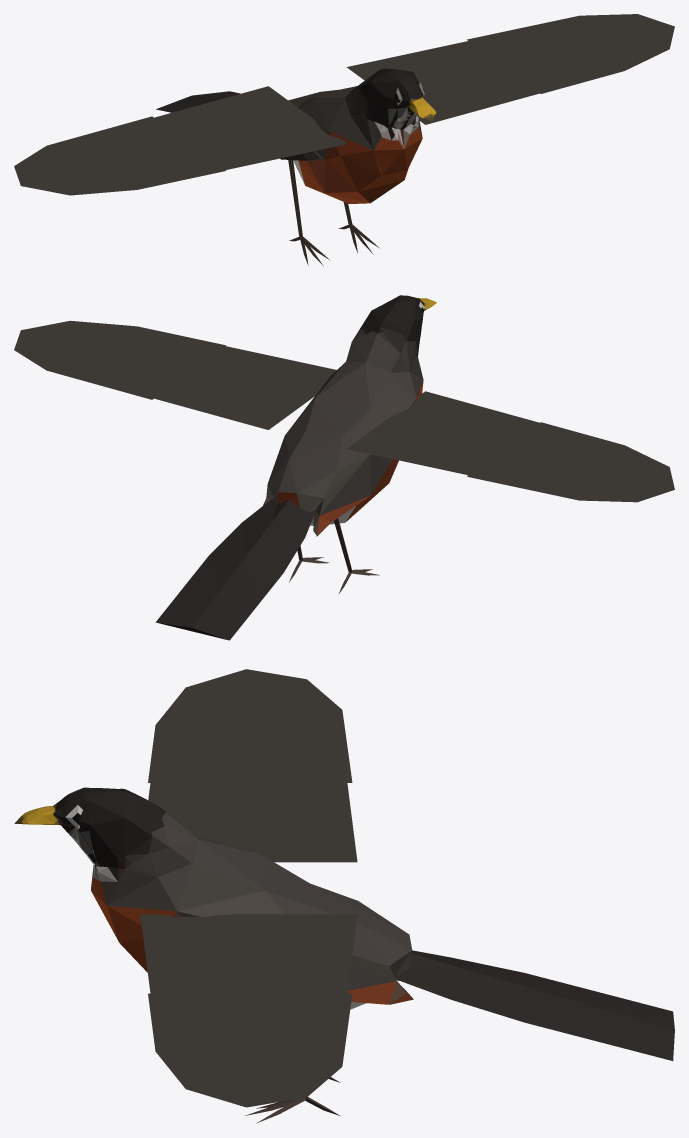
Rendered from american_robin.glb.
The picture shows the model from 3 angles, top to bottom: view 1: azimuth 30°, elevation 25°; view 2: azimuth 150°, elevation 25°; view 3: azimuth 270°, elevation 25°; orthographic projection. The views are drawn at different scales.
Parts seen in each view (by area): view 1: lod0; view 2: lod0; view 3: lod0.
Boxes of the visible parts, left/top/right/bottom form: lod0: left=14, top=14, right=674, bottom=266; lod0: left=14, top=295, right=674, bottom=640; lod0: left=14, top=669, right=674, bottom=1123.
Size of what is drawn, in the model's own units: 0.37 by 0.1217 by 0.2358.
